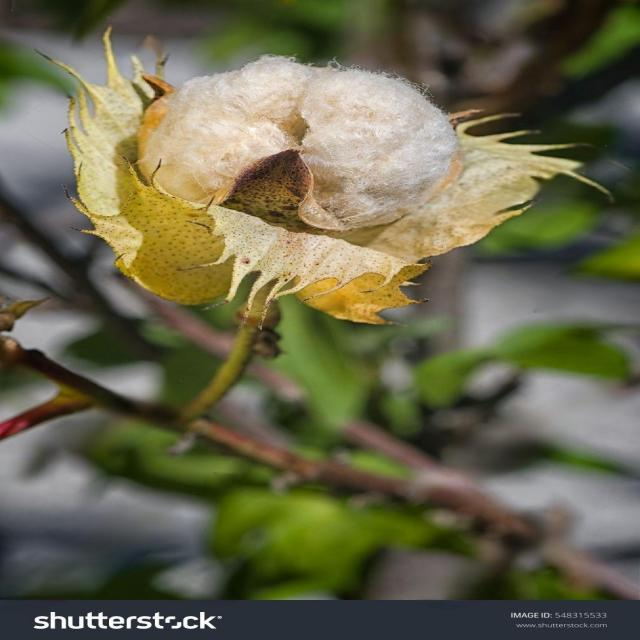Early_blight: (141, 57, 456, 226)
